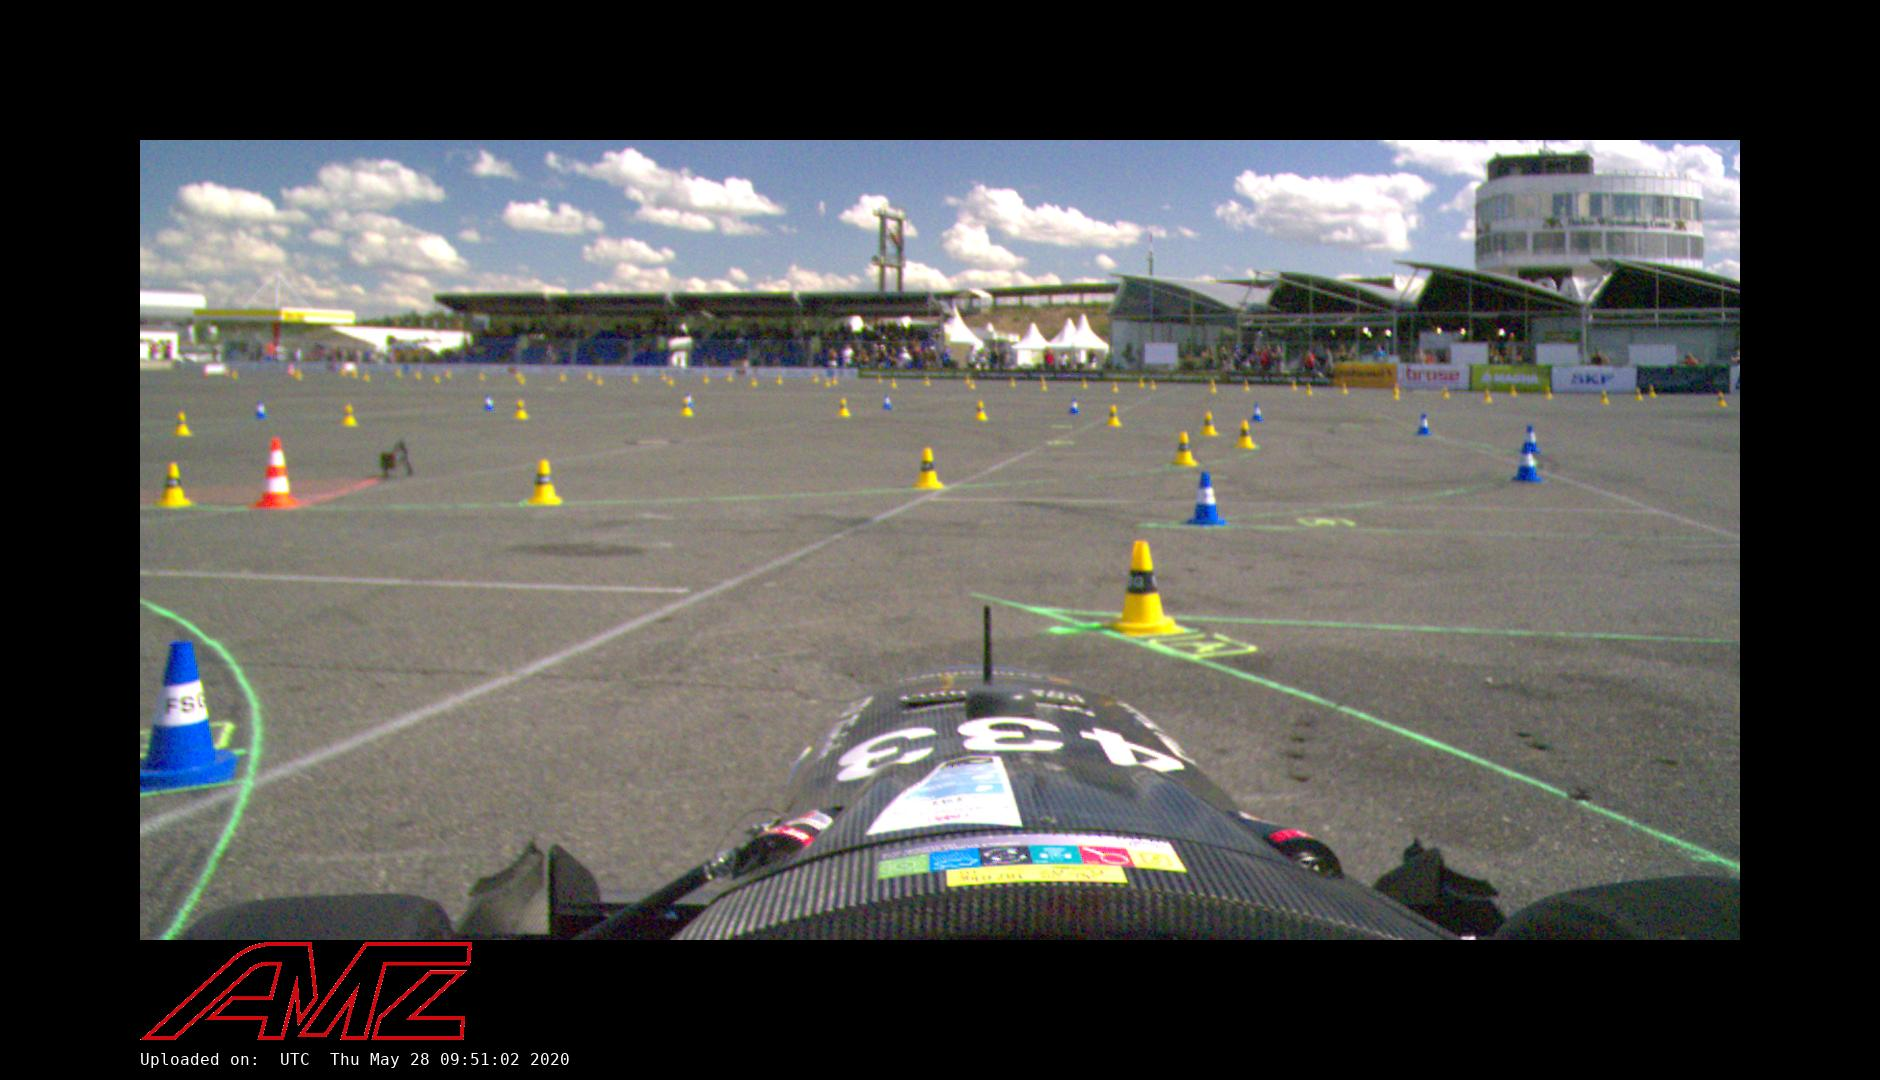blue_cone: (139, 641, 236, 785), (1189, 470, 1225, 524), (1513, 443, 1544, 486), (1520, 425, 1543, 455), (1414, 412, 1435, 435), (1250, 402, 1265, 422), (252, 400, 267, 419), (482, 391, 495, 411), (882, 391, 894, 410), (1069, 398, 1081, 415)
large_orange_cone: (257, 435, 300, 514)
yellow_cone: (1103, 535, 1187, 642), (523, 460, 562, 505), (154, 459, 190, 506), (914, 446, 946, 488), (1172, 431, 1200, 466), (1236, 421, 1259, 450), (170, 411, 191, 437), (338, 402, 359, 424), (1201, 410, 1218, 434), (1105, 404, 1122, 428), (513, 397, 529, 419), (974, 400, 990, 421), (837, 397, 852, 416), (679, 397, 693, 417), (1716, 385, 1726, 408)
